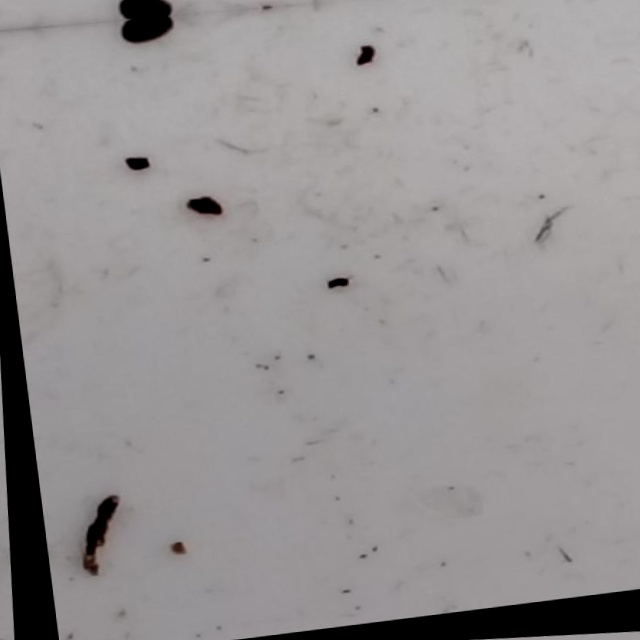varroa: (117, 15, 180, 48)
